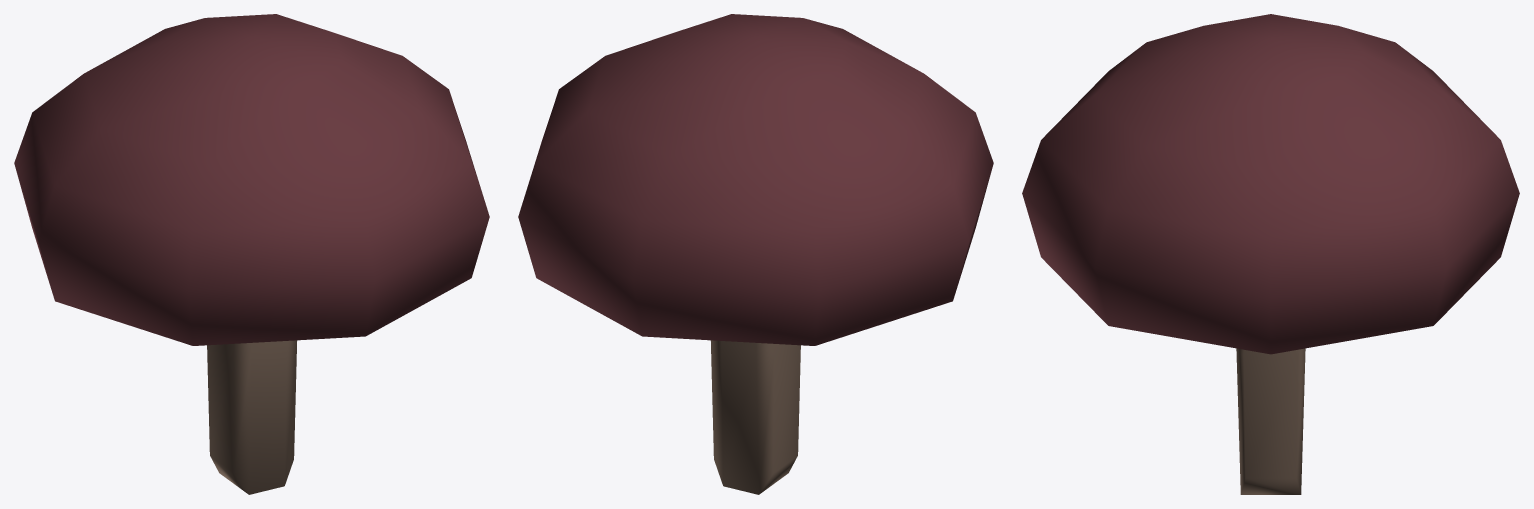
The model's file is SmallMushroom.fbx.
The picture shows the model from 3 angles, left to right: view 1: azimuth 30°, elevation 25°; view 2: azimuth 150°, elevation 25°; view 3: azimuth 270°, elevation 25°; orthographic projection.
Visible parts, largest first — view 1: SmallMushroom; view 2: SmallMushroom; view 3: SmallMushroom.
Part boxes in pixels (x1=…): SmallMushroom: x1=14, y1=14, x2=489, y2=494; SmallMushroom: x1=518, y1=14, x2=993, y2=494; SmallMushroom: x1=1022, y1=14, x2=1519, y2=494.
Size of the model in its own units: 2 by 1.98 by 2.
